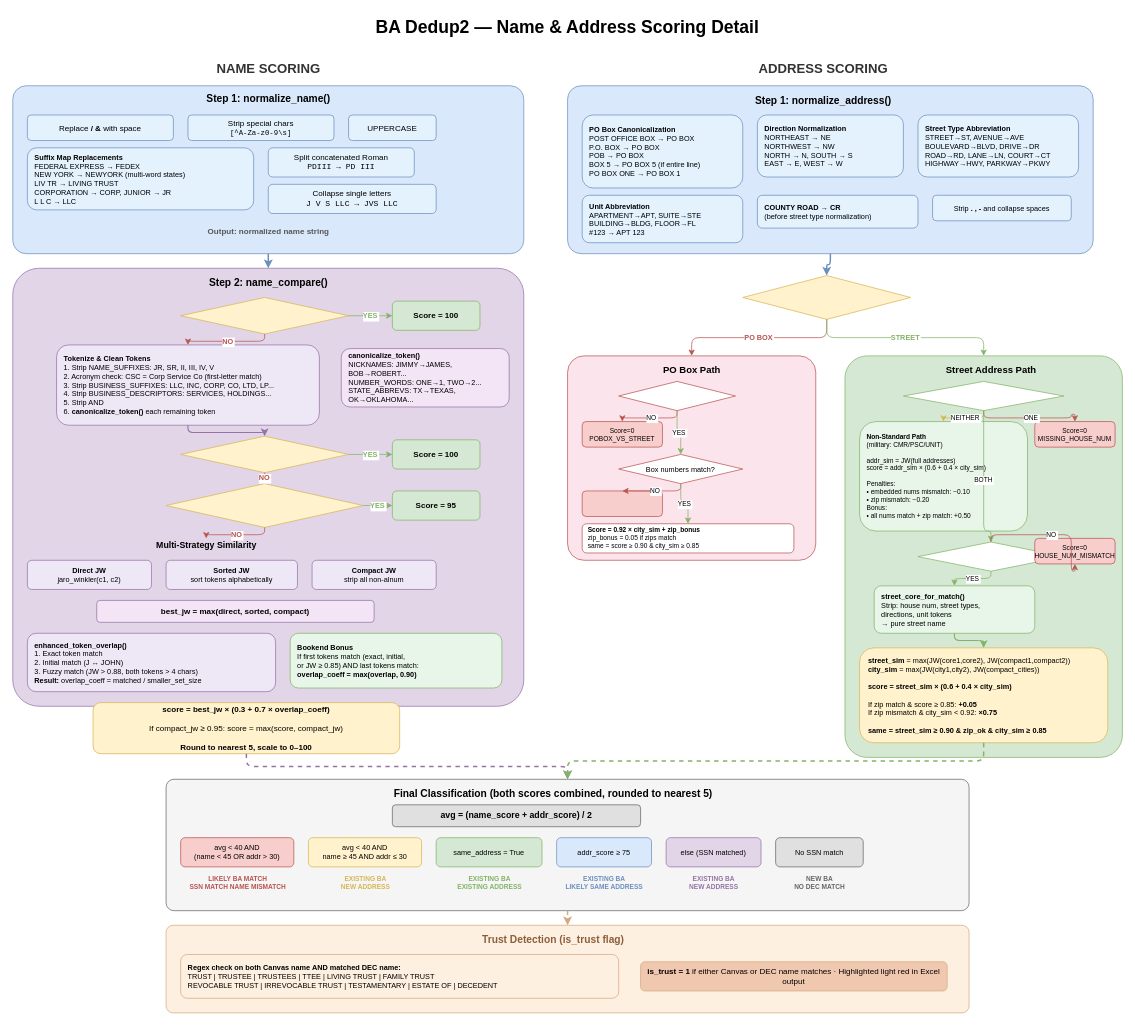
This 1135x1026 diagram has some shape labels left out. Here are the shapes that lost their labels. From the top down, the centre of each, then its label:
At (264,315): "Normalized strings equal?".
At (826,297): "Classify Address Type".
At (676,396): "Both PO Box?".
At (983,396): "Either has house number?".
At (264,454): "Cleaned tokens equal?".
At (264,505): "Initial-match? J SMITH = JOHN SMITH (single-letter first + same last)".
At (621,503): "Score=0 NUM_MISMATCH".
At (990,556): "House numbers match?".
